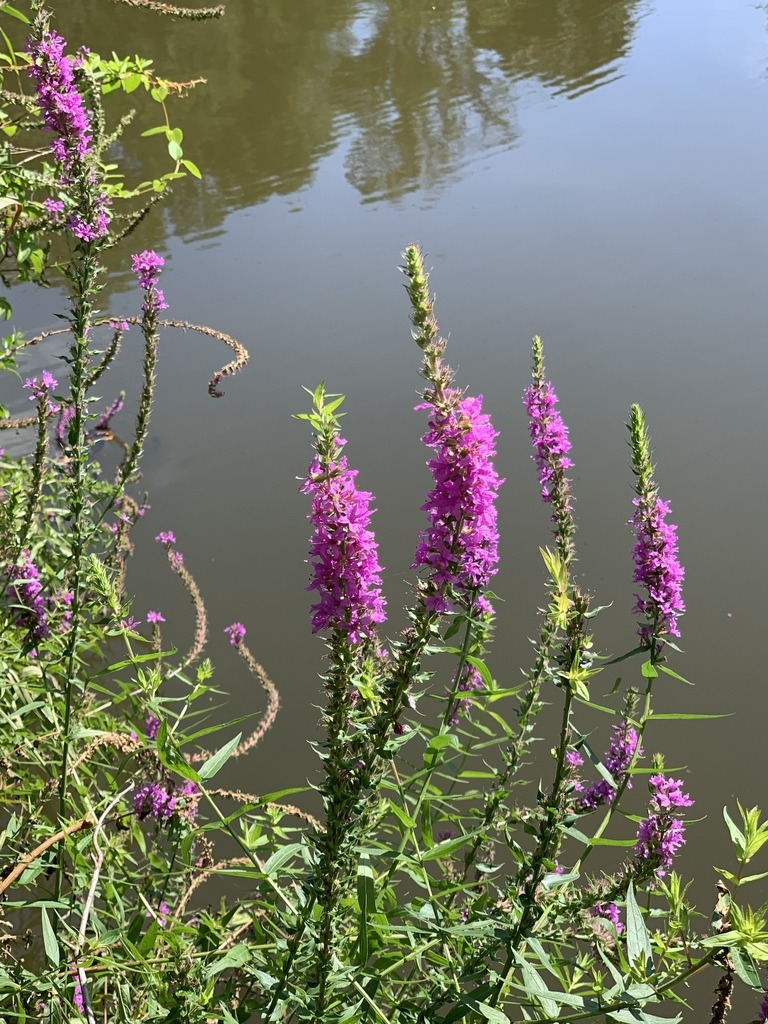purple loosestrife: (6, 25, 711, 1010)
